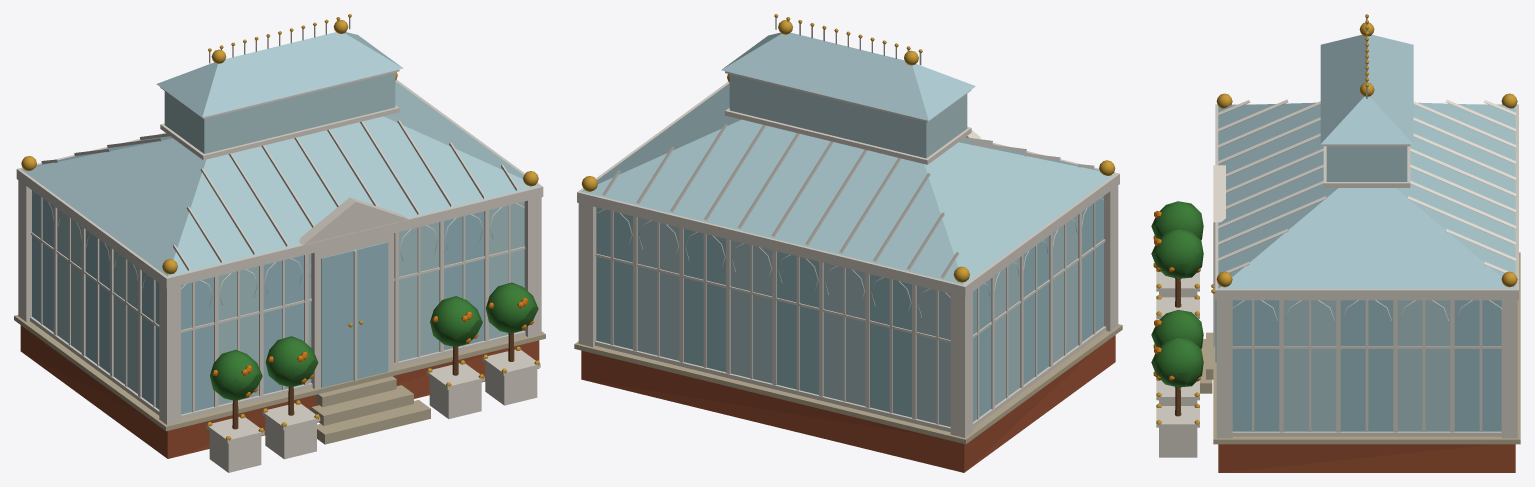
The model's file is orangery.glb.
The picture shows the model from 3 angles, left to right: view 1: azimuth 30°, elevation 25°; view 2: azimuth 150°, elevation 25°; view 3: azimuth 270°, elevation 25°; orthographic projection. The views are drawn at different scales.
Visible parts, largest first — view 1: decor-orangery, decor-orangery-far; view 2: decor-orangery, decor-orangery-far; view 3: decor-orangery, decor-orangery-far.
Part boxes in pixels (x1,y1,x2,y2): decor-orangery: (14,14,545,472); decor-orangery-far: (14,71,545,472); decor-orangery: (574,14,1122,472); decor-orangery-far: (574,71,1122,472); decor-orangery: (1151,14,1520,472); decor-orangery-far: (1151,101,1520,472).
Bounding box in the file's own units: 7.16 × 5.92 × 5.96.
